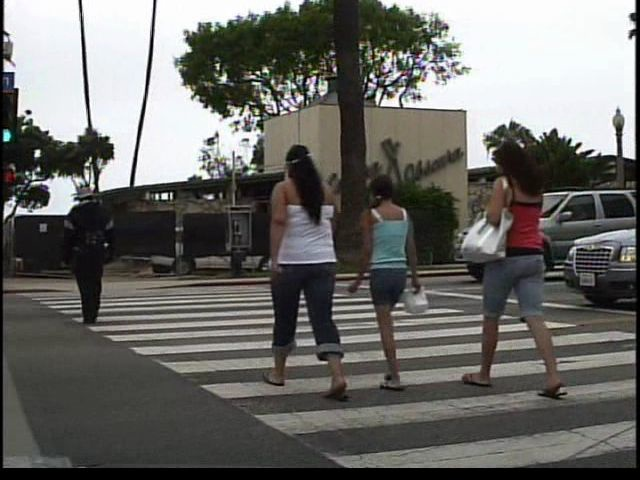person: (261, 132, 364, 405), (471, 137, 567, 405), (354, 172, 428, 396), (51, 181, 117, 333)
